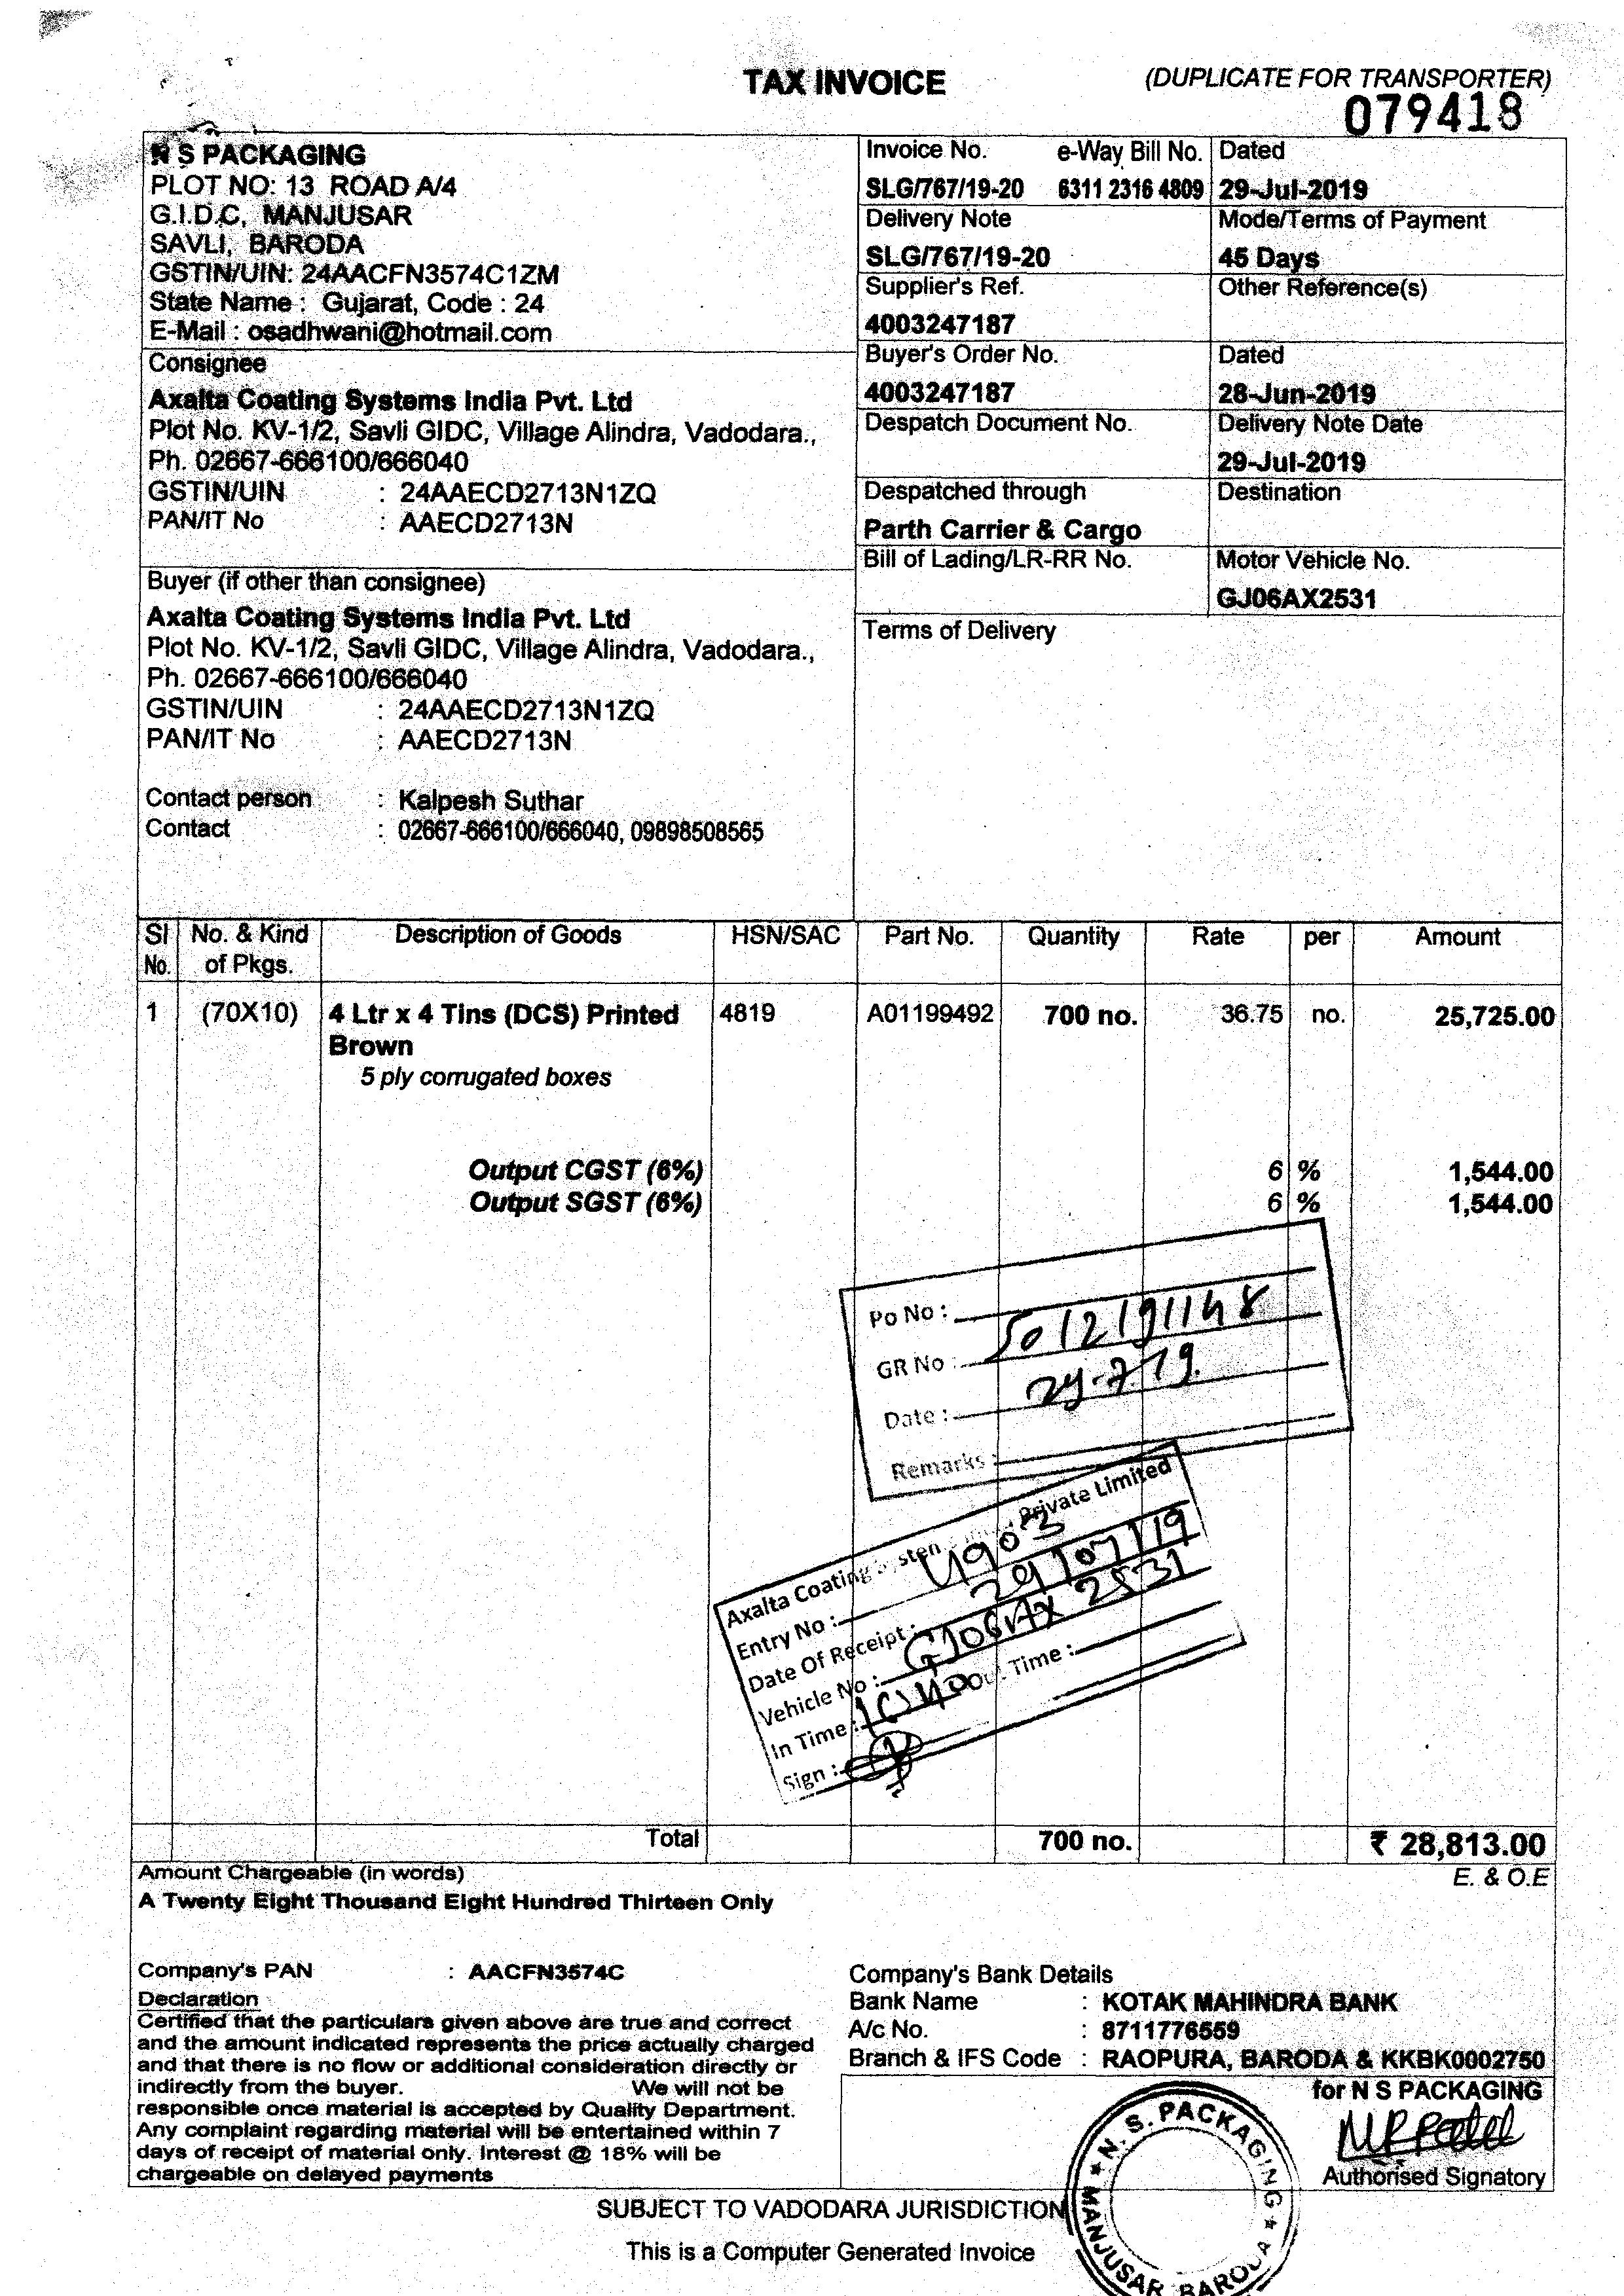B_Paragraph: (128, 562, 830, 859), (128, 1975, 830, 2191), (148, 350, 821, 555), (148, 134, 580, 350), (840, 1957, 1547, 2068), (584, 2180, 1076, 2275), (139, 1855, 777, 1915), (1151, 53, 1562, 93), (139, 1952, 629, 1983), (1334, 93, 1545, 137), (851, 617, 1077, 653), (1313, 2071, 1540, 2101), (1318, 2166, 1550, 2191)
B_Table: (128, 915, 1561, 1859), (859, 139, 1566, 620)
B_Title: (736, 53, 961, 112)
